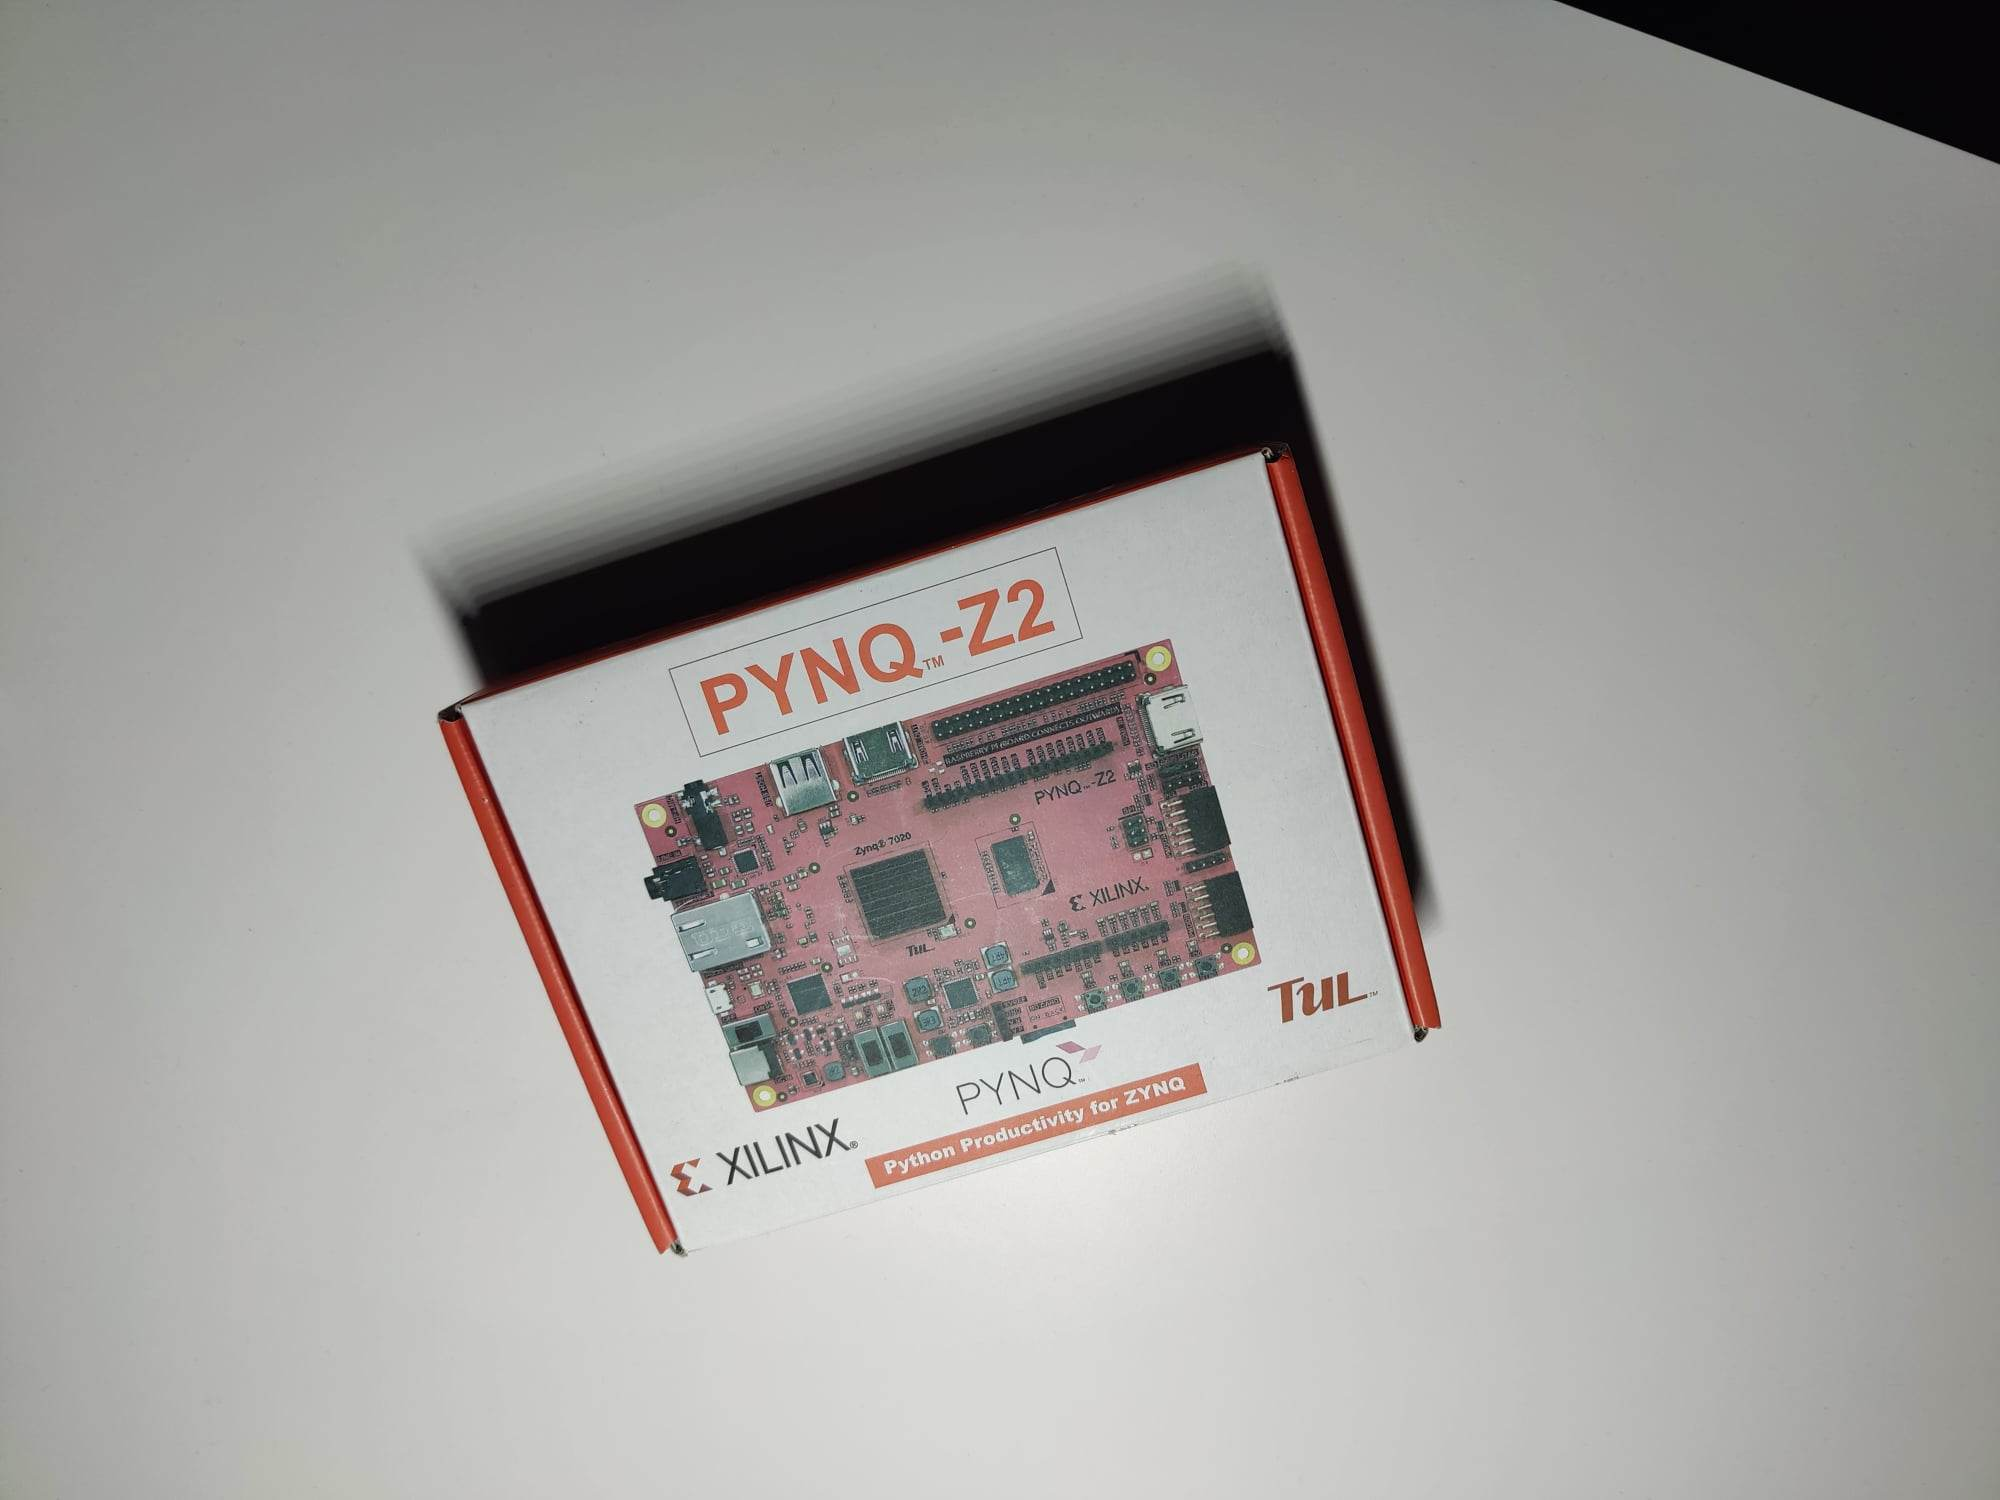PYNQ doos: (406, 425, 1465, 1279)
